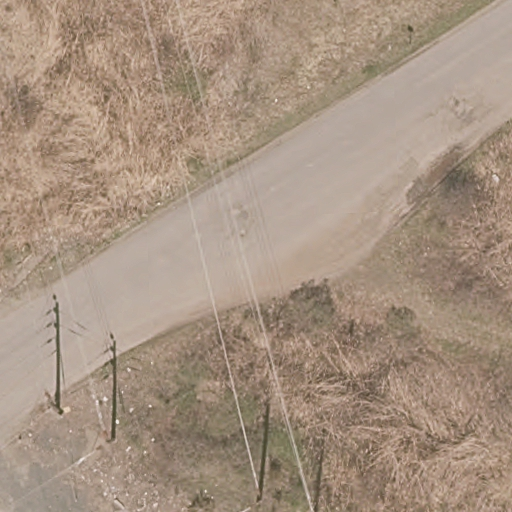DT: (86, 430, 119, 456), (34, 391, 64, 419)
